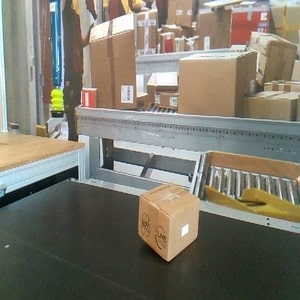box: (137, 183, 201, 262)
